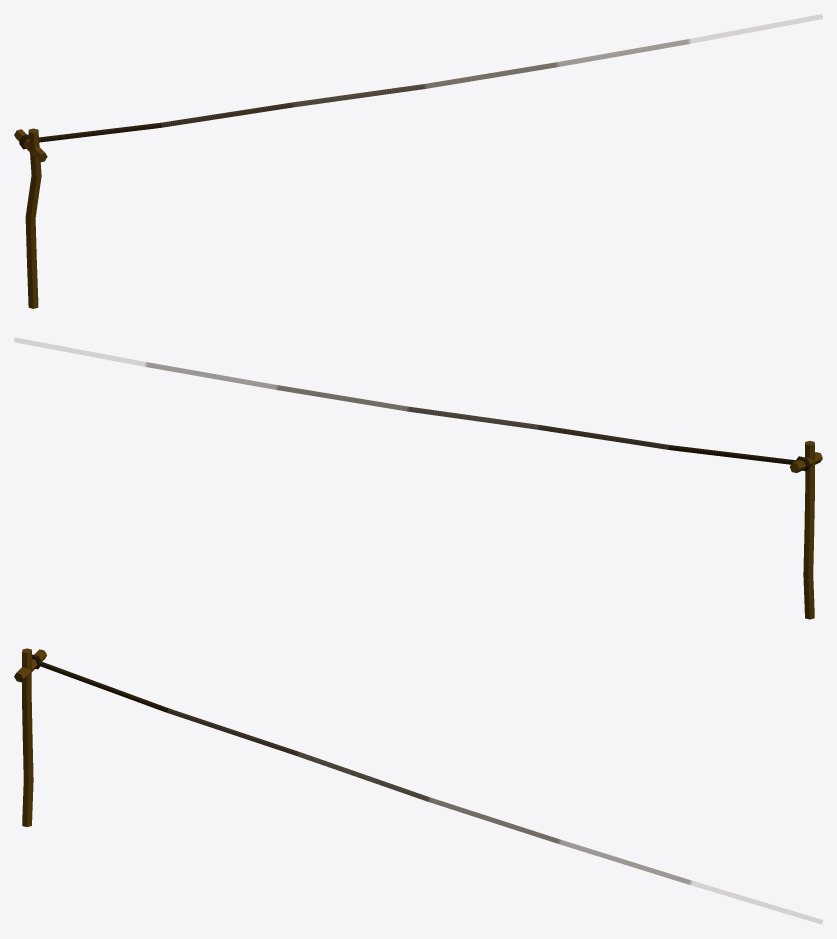
The model's file is pole-with-rope.fbx.
3 renders of one model, top to bottom at view 1: azimuth 30°, elevation 25°; view 2: azimuth 150°, elevation 25°; view 3: azimuth 330°, elevation 25°, orthographic.
Visible parts, largest first — view 1: pole (×2); view 2: pole (×2); view 3: pole (×2).
Part boxes in pixels (x1,y1,x2,y2): pole (×2): (19, 15, 822, 308); pole (×2): (14, 338, 814, 619); pole (×2): (22, 648, 822, 923).
Bounding box in the file's own units: 16.28 × 3.4 × 0.8615.
